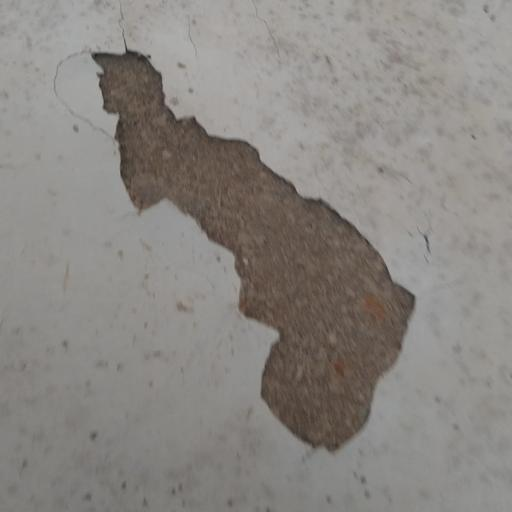peeling: (83, 36, 430, 468)
